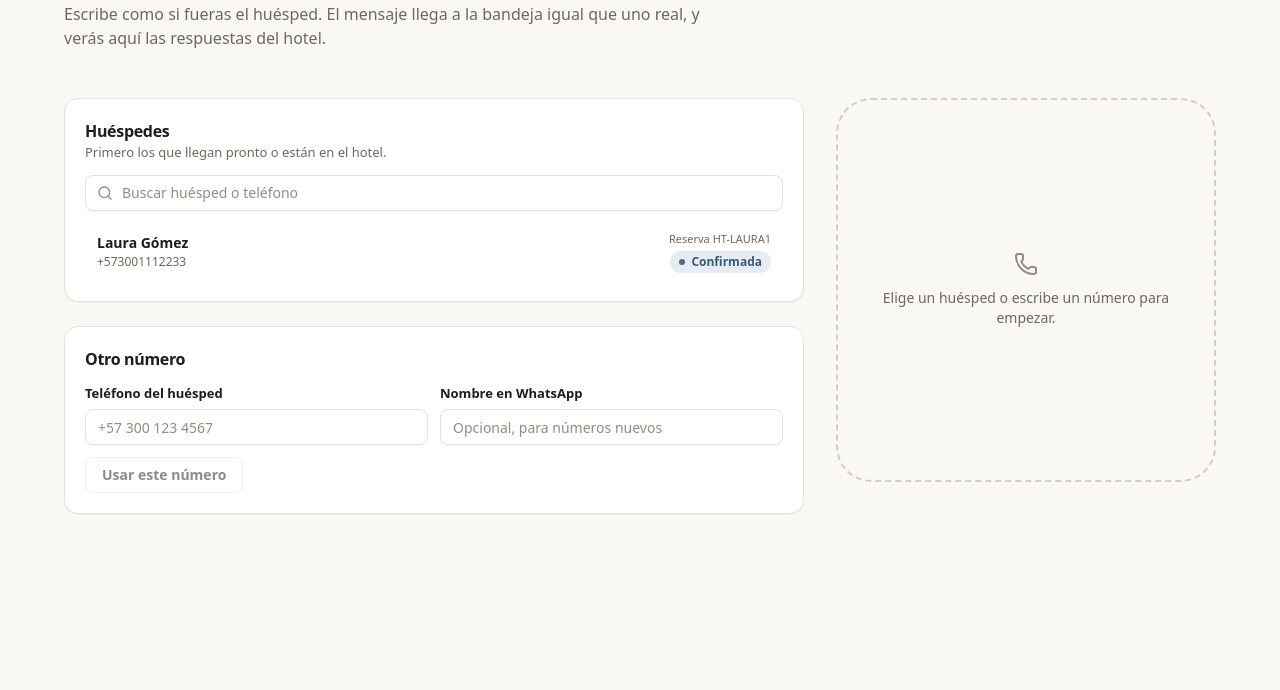
it: WhatsAppSimulatorPage › plays an arriving guest: writes as them and sees the hotel’s reply on the phone
This screenshot has width=1280, height=690.
Click the button "Laura Gómez +573001112233 Reserva HT-LAURA1 Confirmada". click: (143, 243)
box: [85, 222, 783, 281]
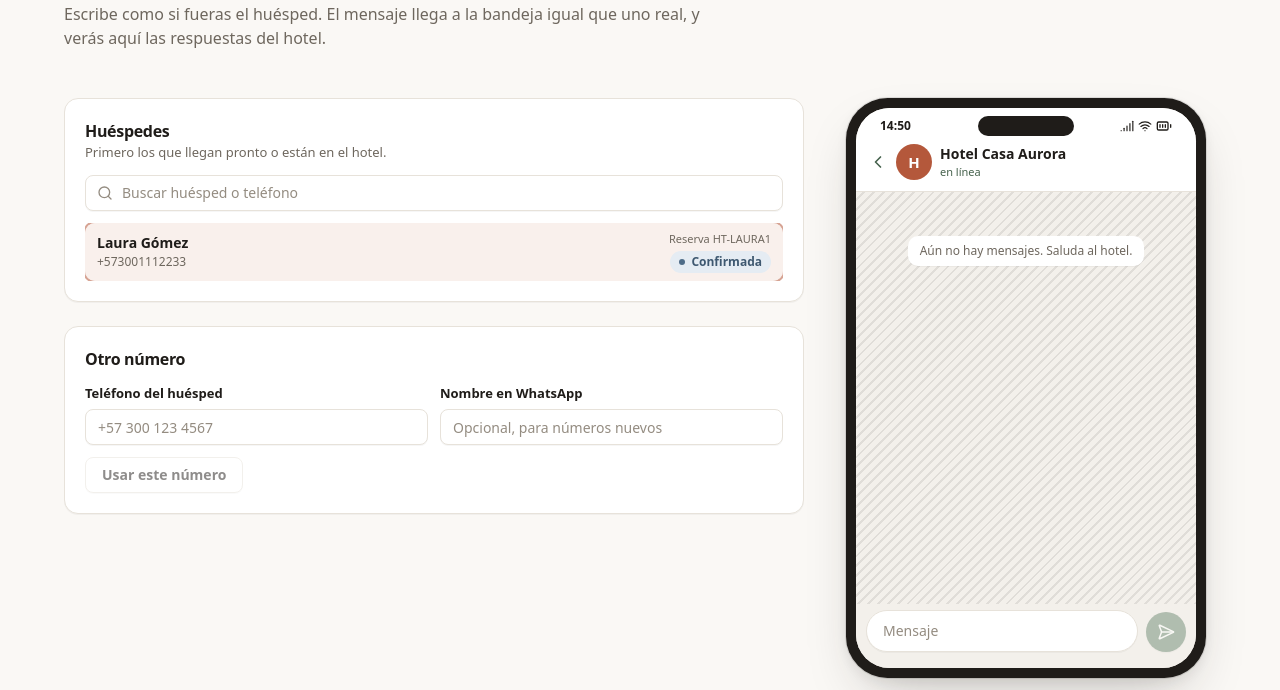
Expected: the text "Aún no hay mensajes. Saluda al hotel." is shown, [908, 236, 1144, 266]
Type "Hola, ¿a qué hora es el check-in?" into the text box labelled "Mensaje". click: (1002, 631)
box: [866, 610, 1138, 652]
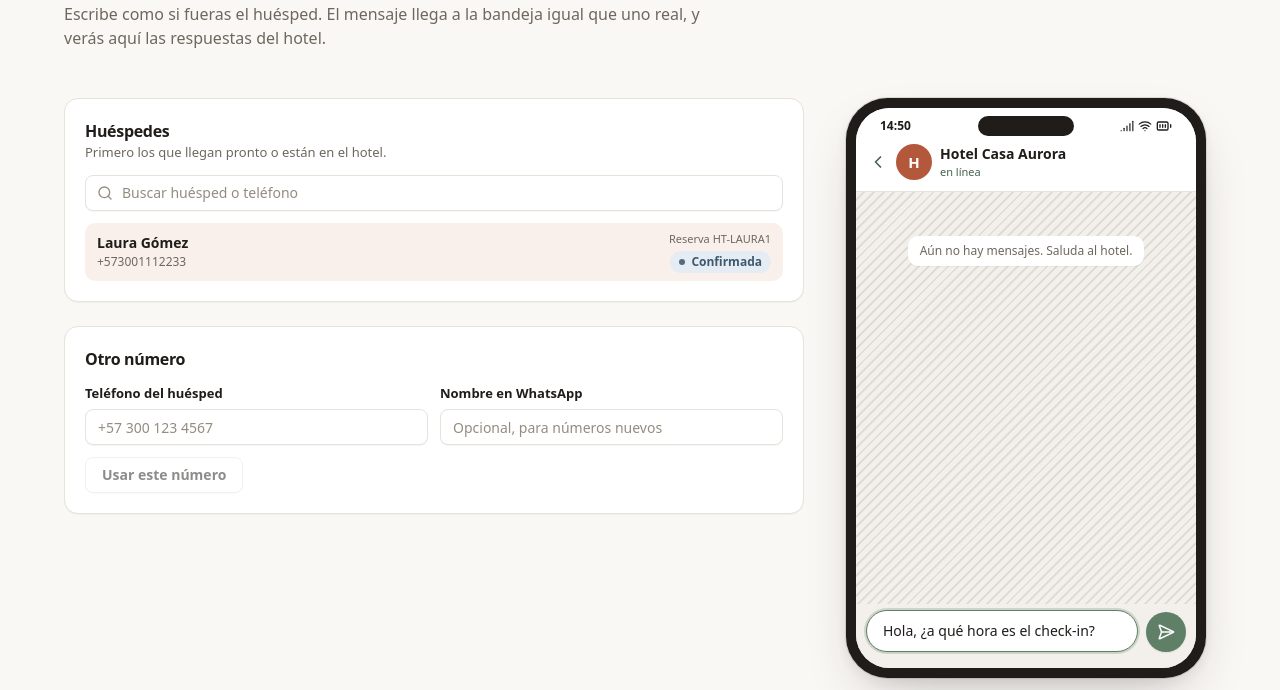
Click the button named "Enviar como huésped". click: (1166, 632)
box: [1146, 612, 1186, 652]
(page scrolled)
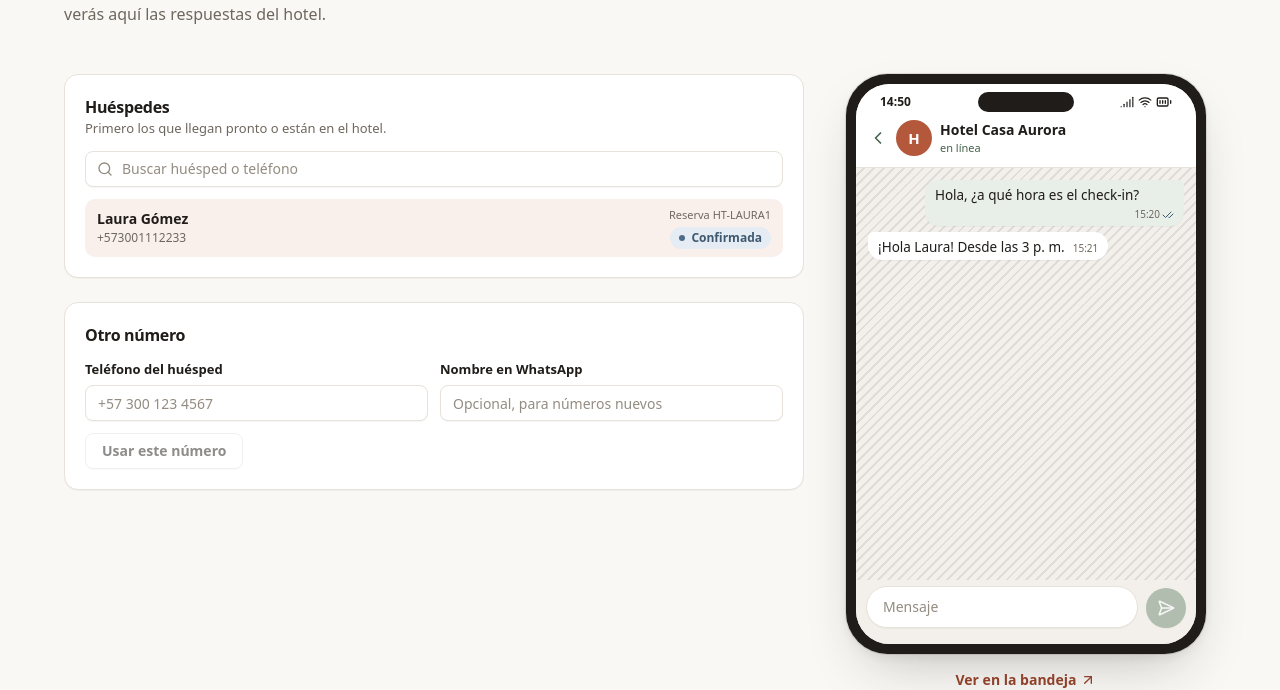
Expected: the text "¡Hola Laura! Desde las 3 p. m." is shown, [878, 238, 1065, 256]
Expected: the text "Hola, ¿a qué hora es el check-in?" is shown, [935, 186, 1139, 204]
